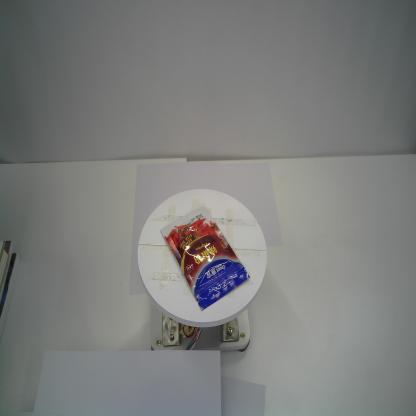Seasoner: (161, 206, 250, 312)
